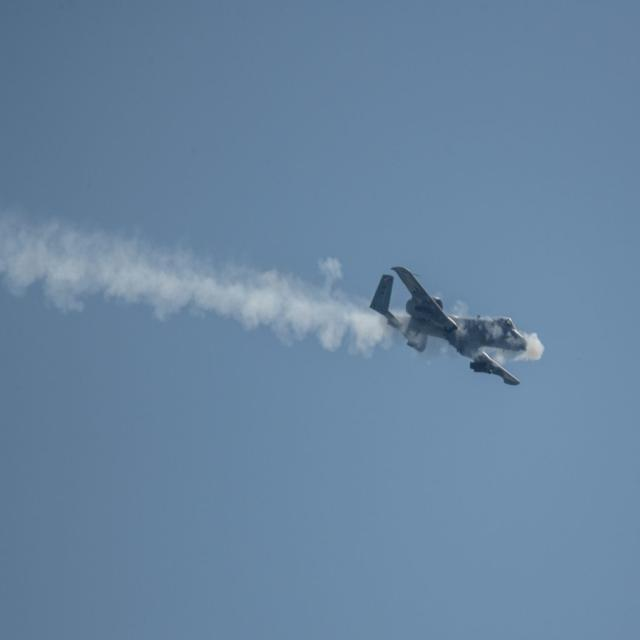MIL_Plane: (369, 266, 529, 386)
